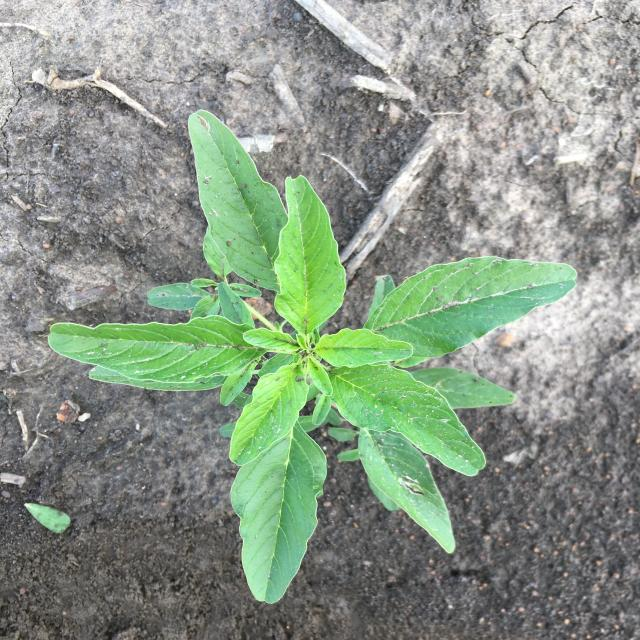Waterhemp: (48, 110, 577, 604)
